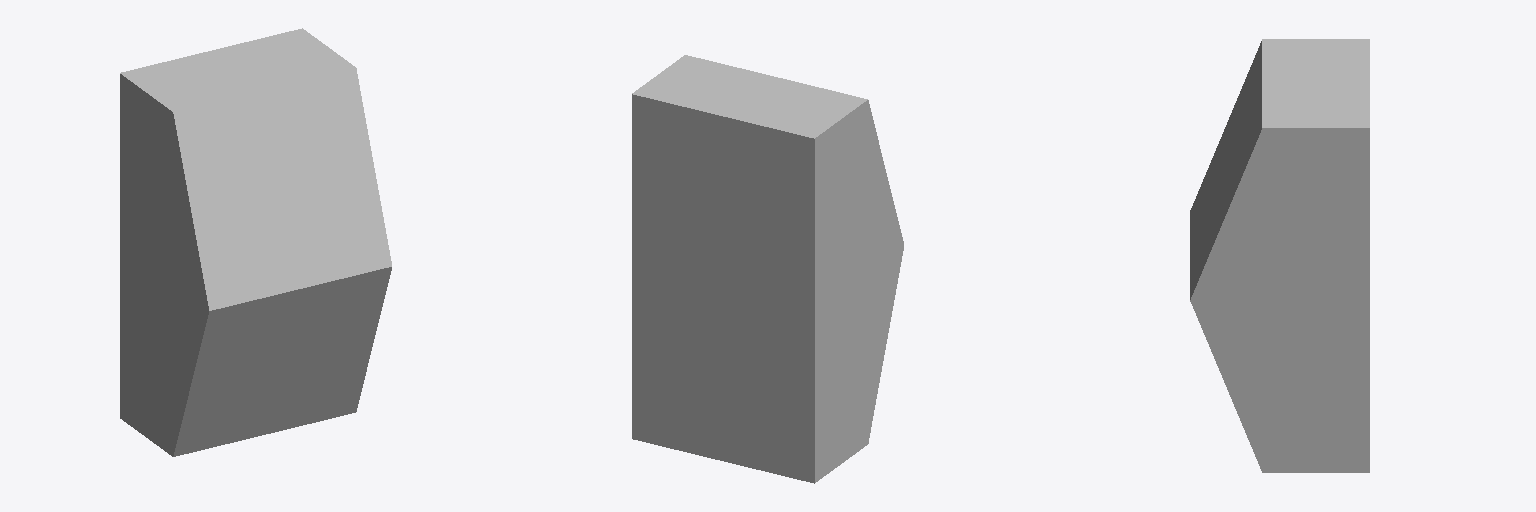
Rendered from sunroom2.obj.
The picture shows the model from 3 angles: view 1: azimuth 30°, elevation 25°; view 2: azimuth 150°, elevation 25°; view 3: azimuth 270°, elevation 25°; orthographic projection.
Visible parts, largest first — view 1: Cube.001_Cube.002, Cube.002_Cube.003, Cube.005_Cube.006, Cube.003_Cube.004; view 2: Cube.007_Cube.008, Cube.005_Cube.006, Cube.003_Cube.004; view 3: Cube.006_Cube.007, Cube.003_Cube.004, Cube.001_Cube.002.
Part boxes in pixels (x1,y1,x2,y2): Cube.001_Cube.002: (173, 68, 391, 310); Cube.002_Cube.003: (173, 267, 391, 456); Cube.005_Cube.006: (120, 74, 208, 456); Cube.003_Cube.004: (120, 28, 355, 111); Cube.007_Cube.008: (632, 94, 814, 483); Cube.005_Cube.006: (815, 100, 903, 482); Cube.003_Cube.004: (632, 55, 867, 138); Cube.006_Cube.007: (1190, 128, 1369, 472); Cube.003_Cube.004: (1262, 39, 1369, 127); Cube.001_Cube.002: (1190, 41, 1261, 299).
Bounding box in the file's own units: 5 × 9 × 4.25.